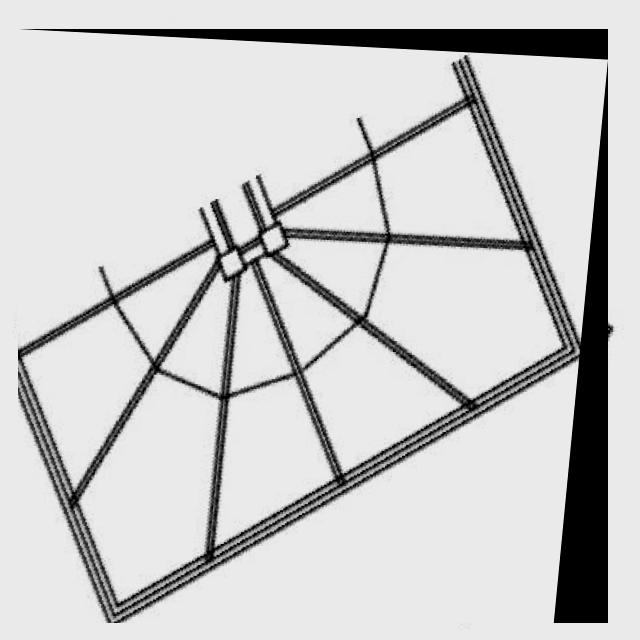stair: (18, 29, 608, 624)
